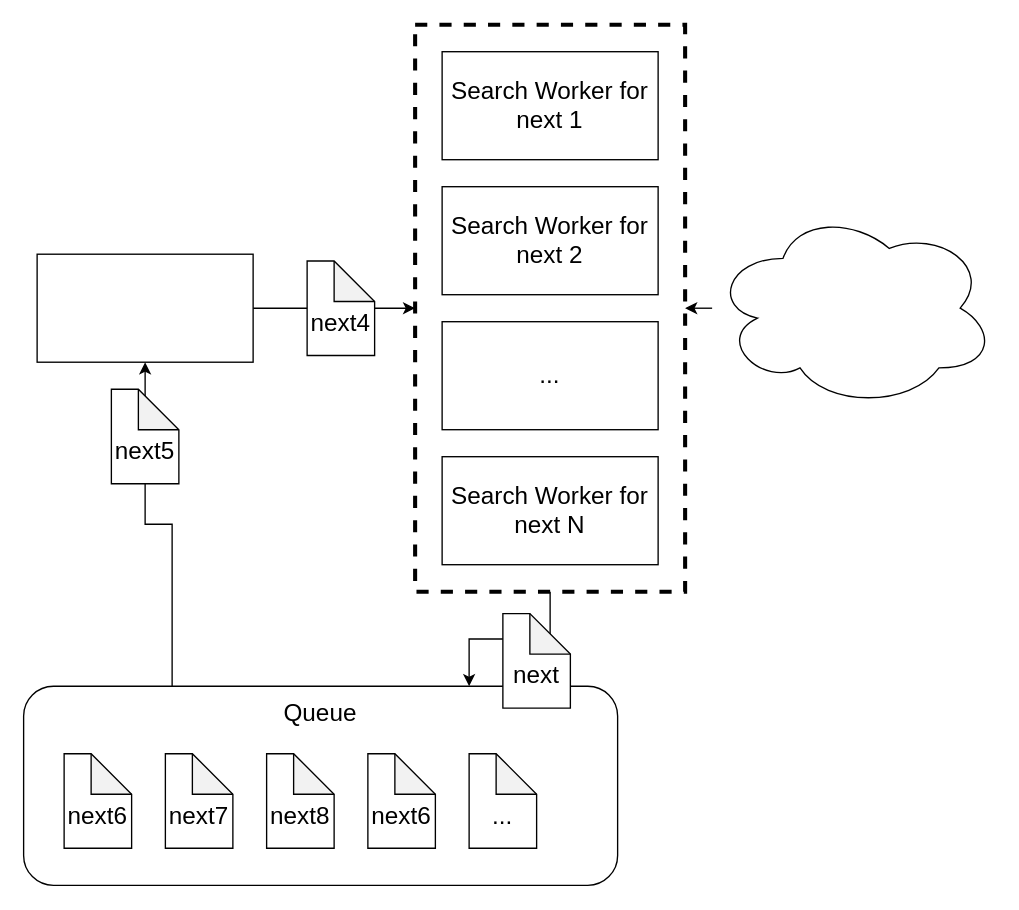
Some shapes in this 1019 by 910 pixel diagram are drawn without their labels. Each missing label, with the centre of its shape:
MediaWiki API: the point at 853,307
Wiki Racer: the point at 144,307
